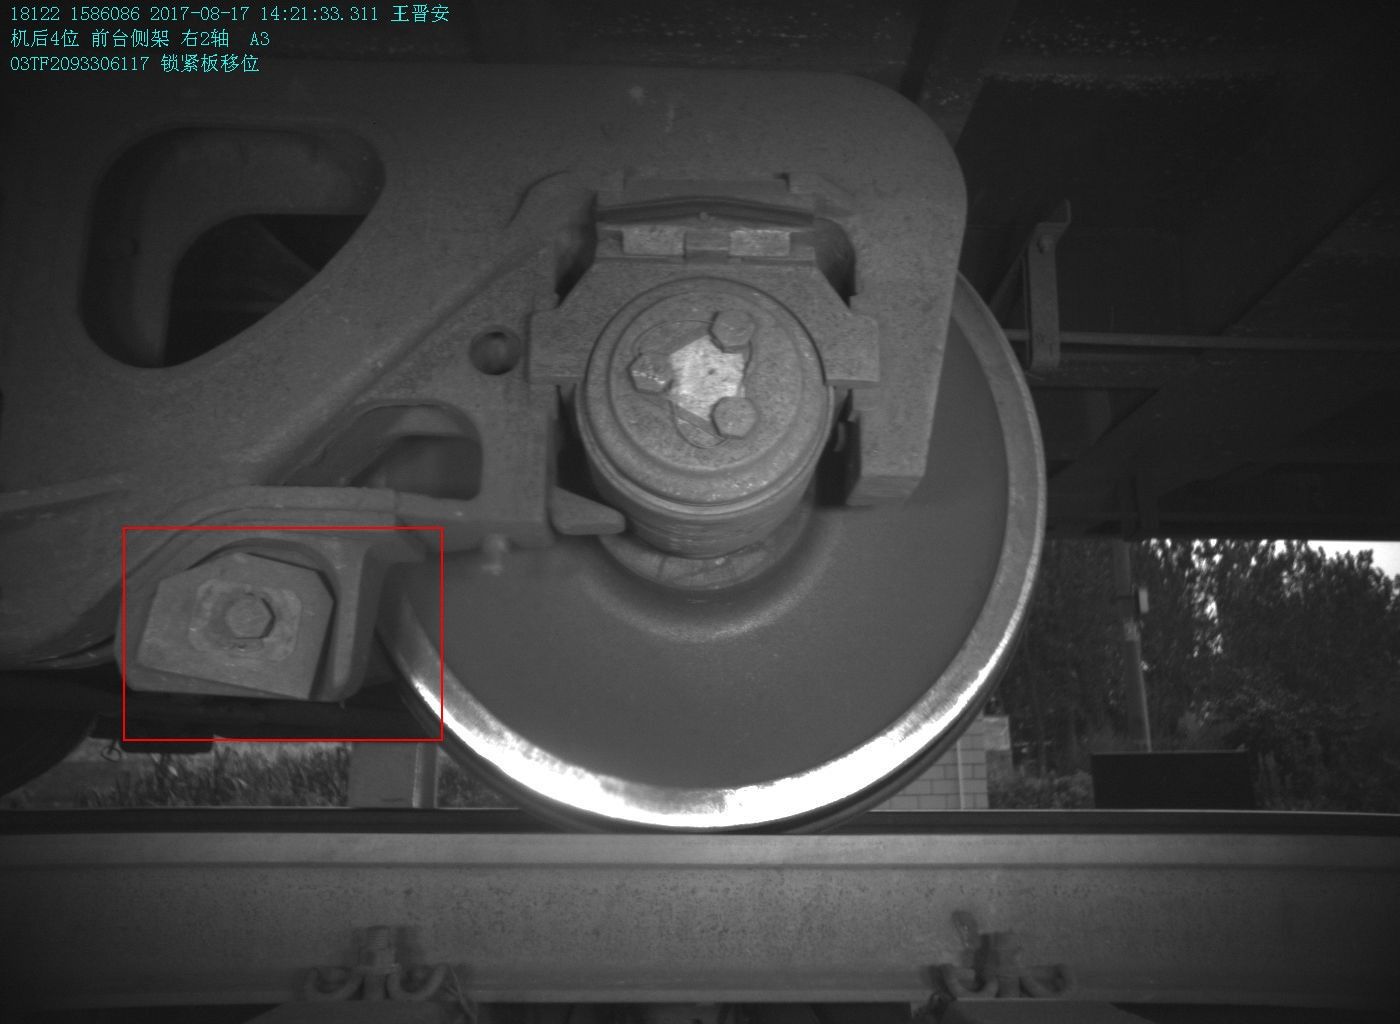Locking plate: (112, 527, 364, 704)
